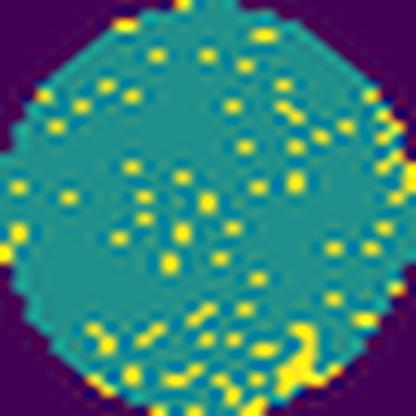Edge-Loc: (271, 319, 337, 405)
